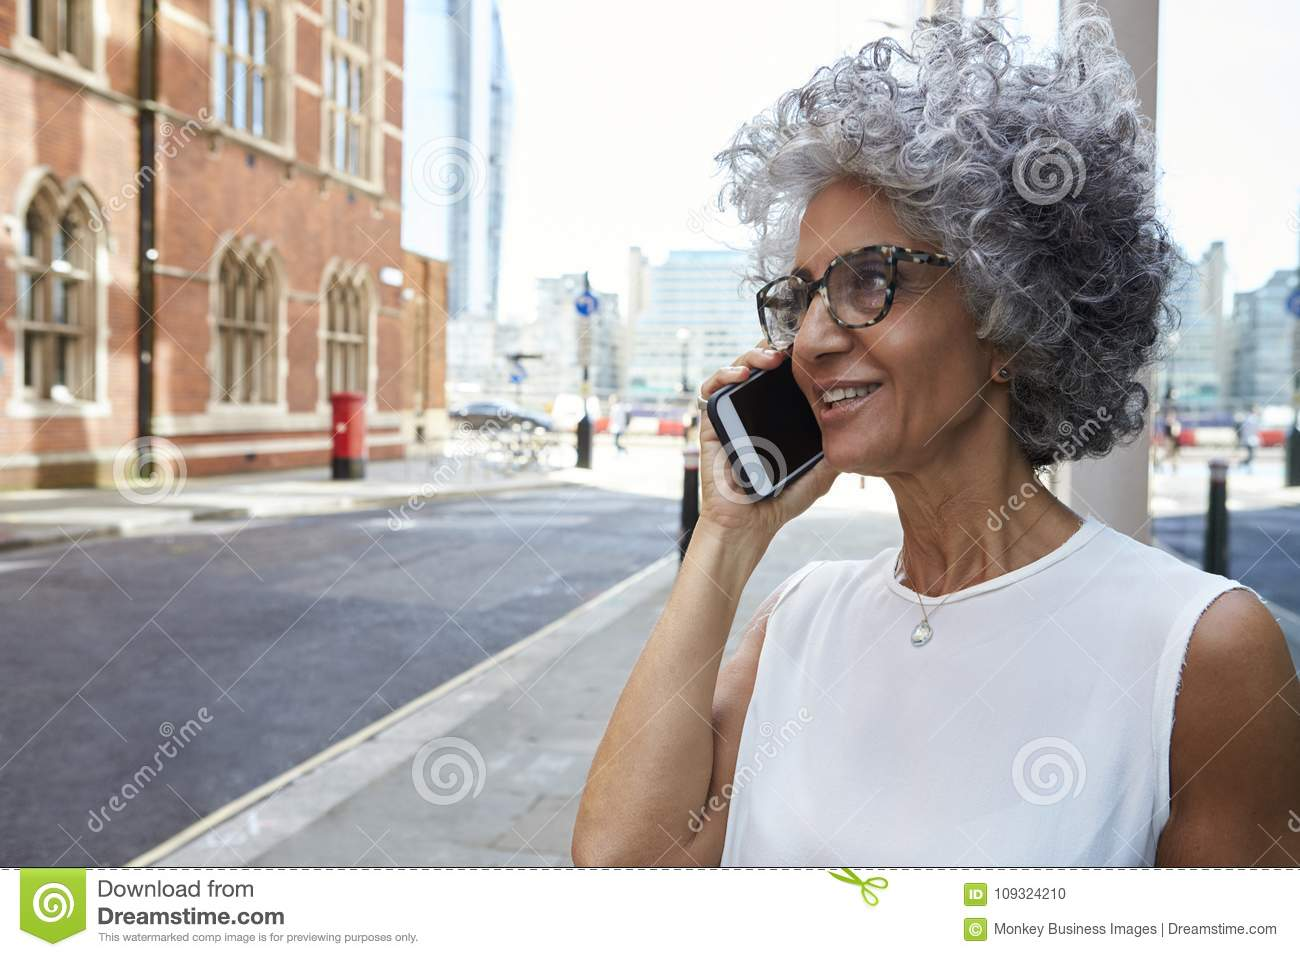phone: (707, 337, 828, 509)
talk: (693, 241, 917, 558)
